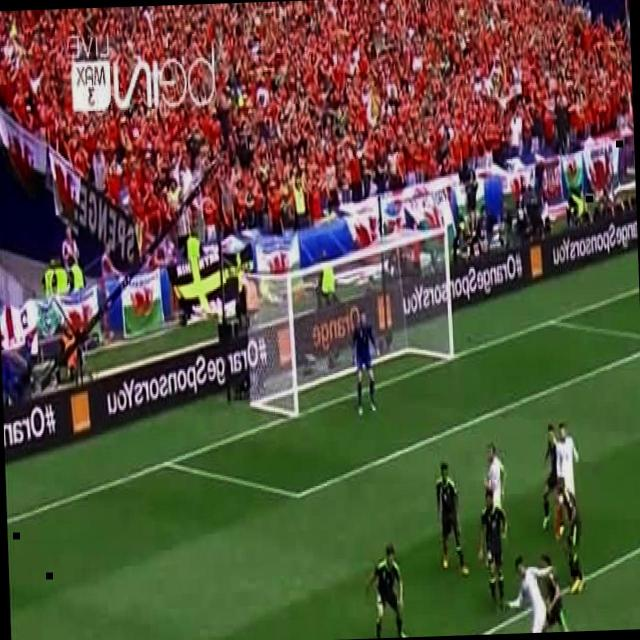player-white: (363, 541, 410, 639), (503, 553, 557, 633), (534, 553, 588, 633), (434, 462, 470, 576), (475, 488, 511, 599), (348, 308, 382, 418), (555, 477, 585, 595), (555, 419, 583, 543), (482, 442, 508, 566), (538, 423, 566, 536)
